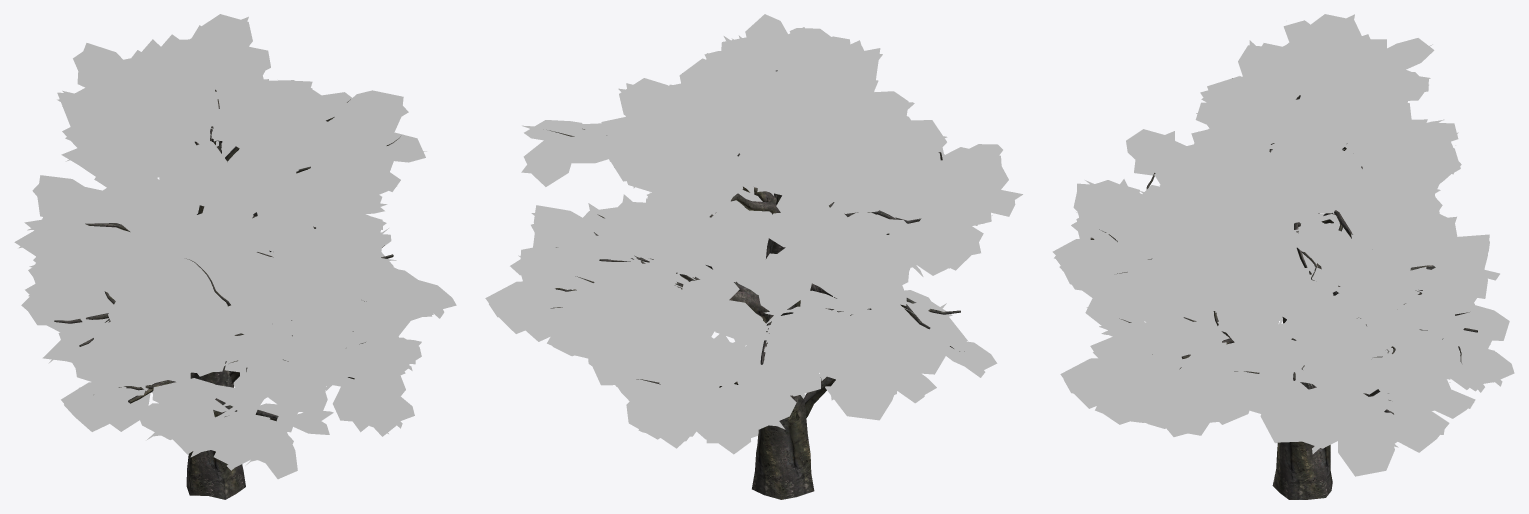
Rendered from tree_beech02.DAE.
3 renders of one model, left to right at view 1: azimuth 30°, elevation 25°; view 2: azimuth 150°, elevation 25°; view 3: azimuth 270°, elevation 25°, orthographic. The views are drawn at different scales.
Visible parts, largest first — view 1: EuropeanBeech_soma_2_EuropeanBeechLeaves_3, EuropeanBeech_soma_2_EuropeanBeechBark; view 2: EuropeanBeech_soma_2_EuropeanBeechLeaves_3, EuropeanBeech_soma_2_EuropeanBeechBark; view 3: EuropeanBeech_soma_2_EuropeanBeechLeaves_3, EuropeanBeech_soma_2_EuropeanBeechBark.
Part boxes in pixels (x1=…): EuropeanBeech_soma_2_EuropeanBeechLeaves_3: x1=14, y1=14, x2=456, y2=479; EuropeanBeech_soma_2_EuropeanBeechBark: x1=54, y1=89, x2=400, y2=499; EuropeanBeech_soma_2_EuropeanBeechLeaves_3: x1=485, y1=14, x2=1022, y2=454; EuropeanBeech_soma_2_EuropeanBeechBark: x1=549, y1=70, x2=964, y2=499; EuropeanBeech_soma_2_EuropeanBeechLeaves_3: x1=1052, y1=14, x2=1514, y2=476; EuropeanBeech_soma_2_EuropeanBeechBark: x1=1090, y1=78, x2=1477, y2=499.
Bounding box in the file's own units: 17.62 × 18.48 × 17.42.
